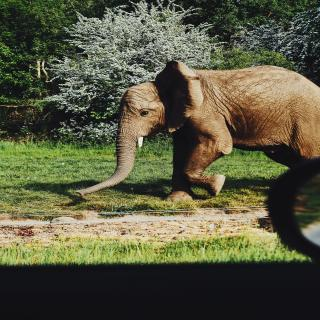Elephant: (68, 57, 320, 208)
